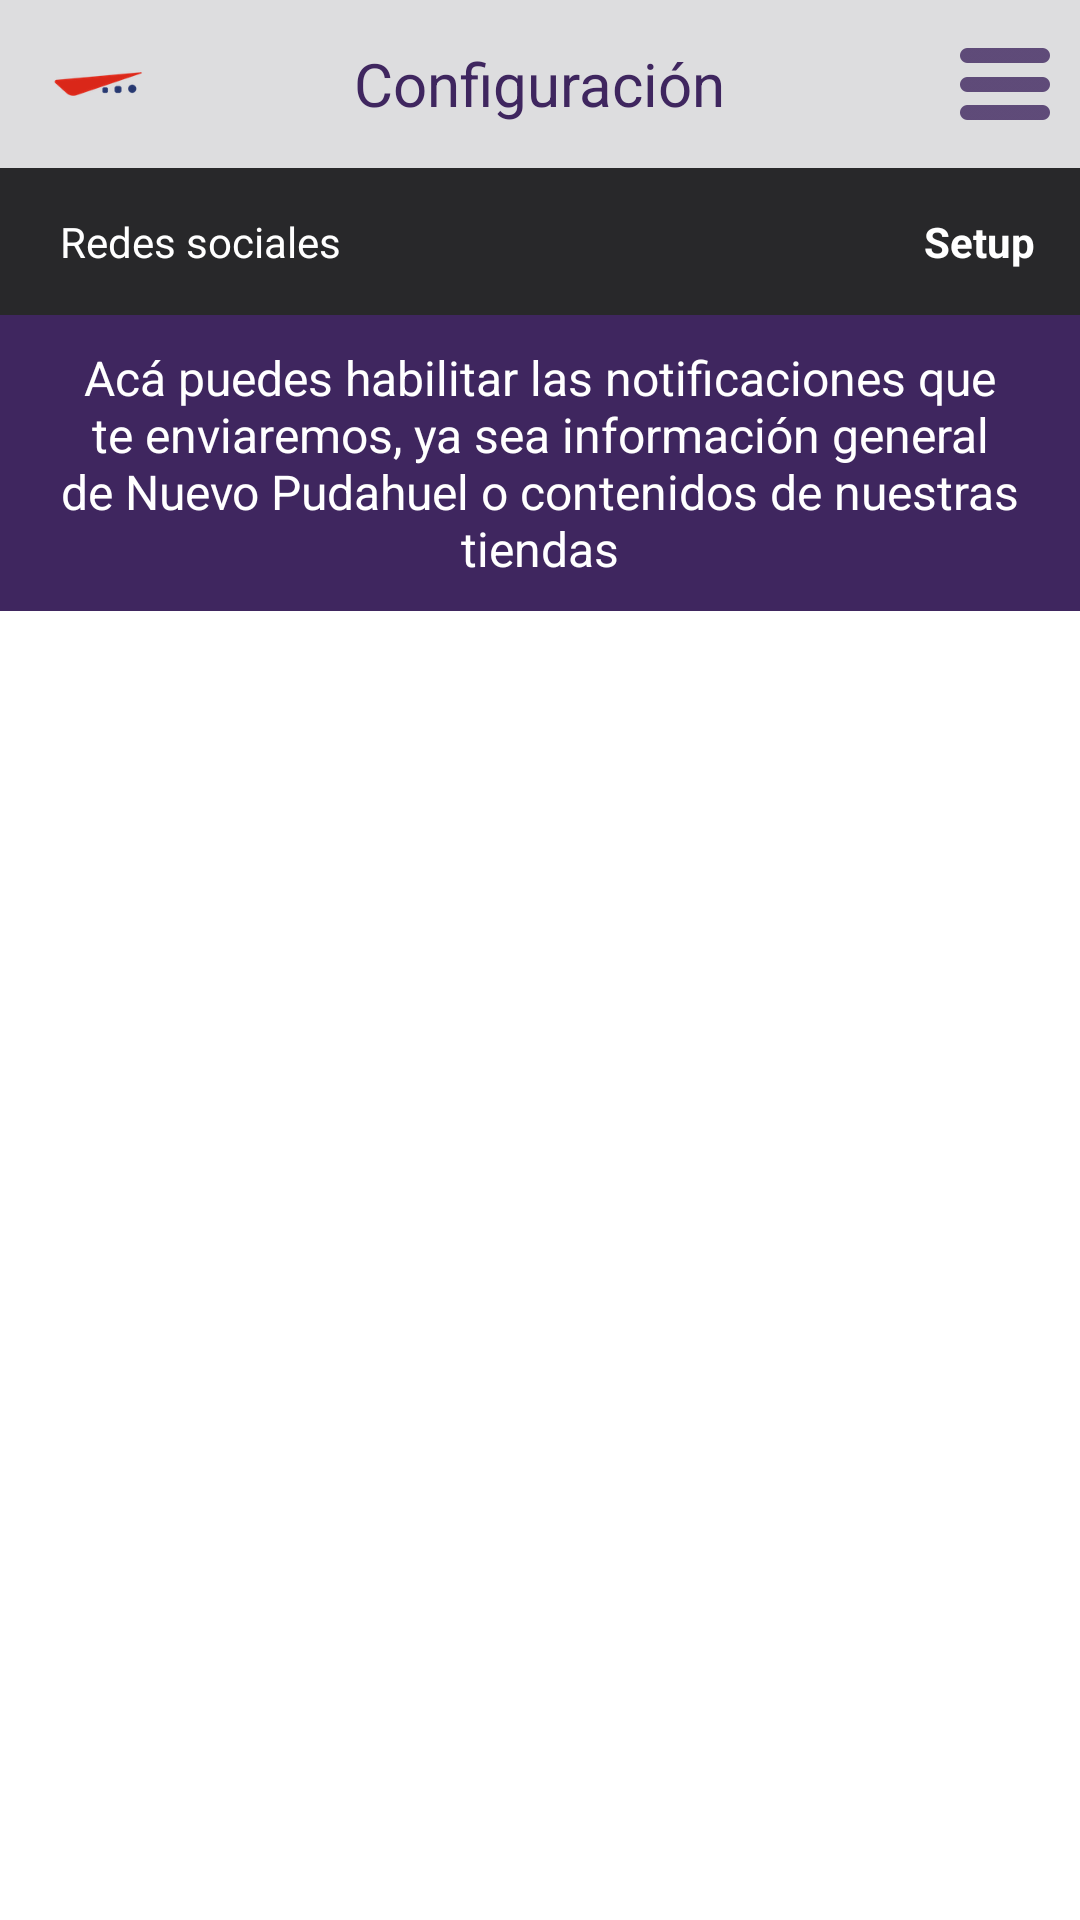

Icon click points for this 1080*1920 phone screenshot, format [x,y]:
btnmenu: [1005,84]
